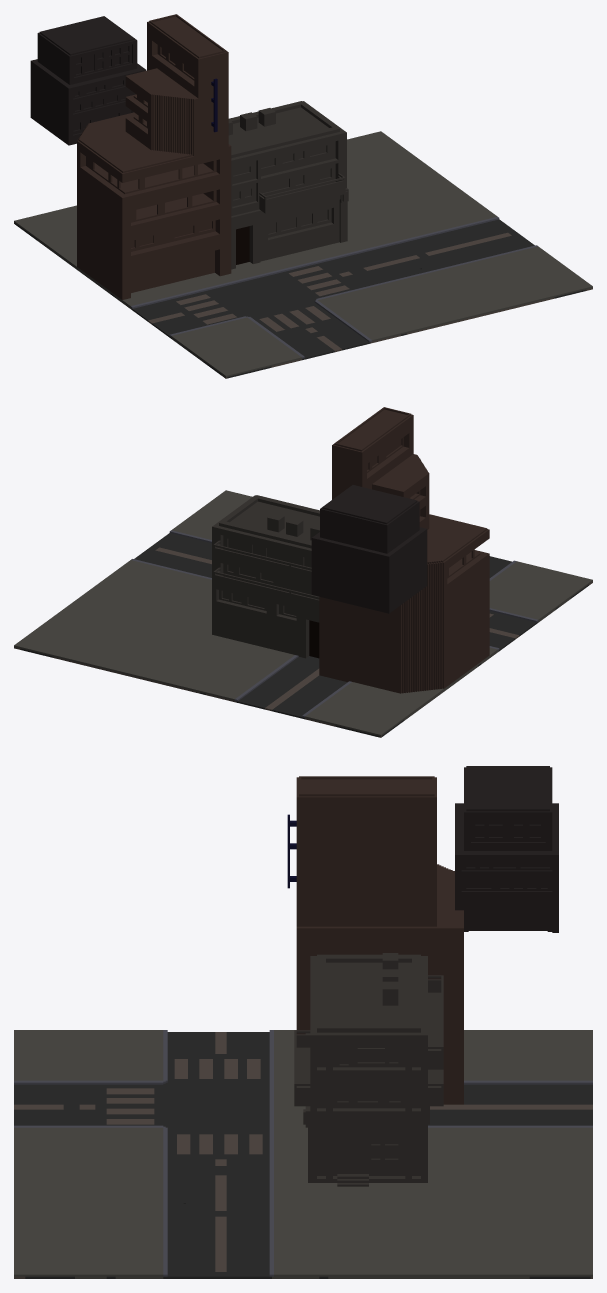
File: Street3-6.obj
The picture shows the model from 3 angles, top to bottom: view 1: azimuth 30°, elevation 25°; view 2: azimuth 150°, elevation 25°; view 3: azimuth 270°, elevation 25°; orthographic projection. The views are drawn at different scales.
Size of the model in its own units: 25.6 by 15.1 by 25.6.
1 material, 1 textured.
